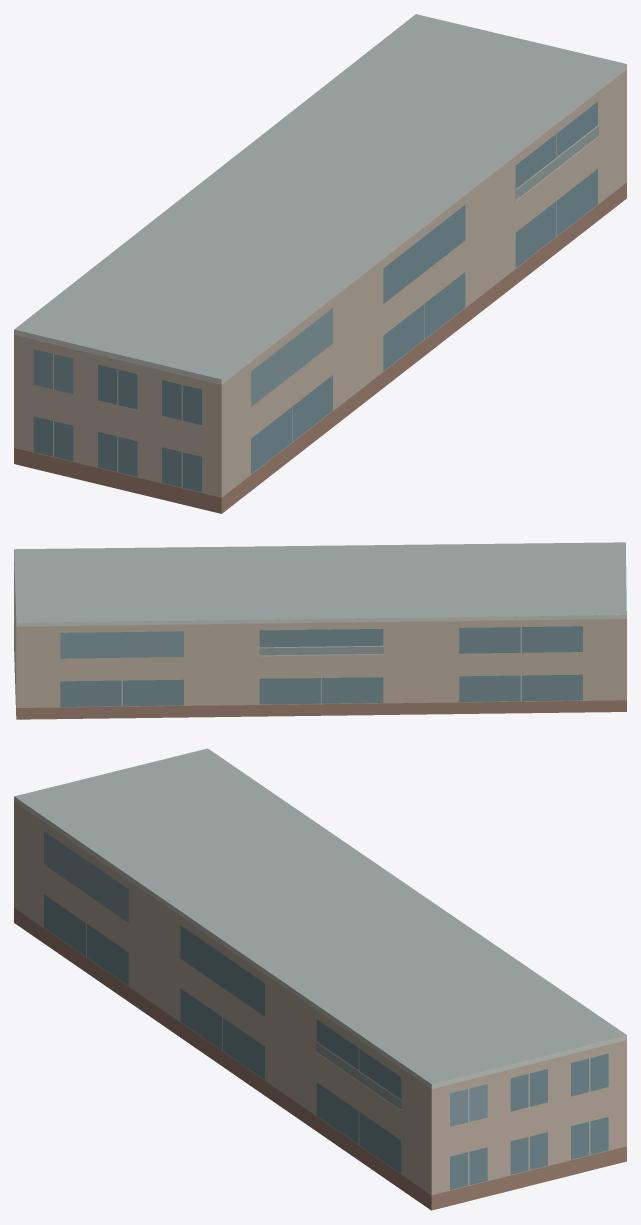
Rendered from survey-upis-32490419.glb.
3 views of the same model, one above another, from view 1: azimuth 30°, elevation 25°; view 2: azimuth 150°, elevation 25°; view 3: azimuth 270°, elevation 25° (orthographic). The views are drawn at different scales.
Visible parts, largest first — view 1: survey-upis-32490419.tmp; view 2: survey-upis-32490419.tmp; view 3: survey-upis-32490419.tmp.
Boxes of the visible parts, x1,y1,x2,y2 form: survey-upis-32490419.tmp: (14,14,626,513); survey-upis-32490419.tmp: (14,542,626,719); survey-upis-32490419.tmp: (14,748,626,1210).
Bounding box in the file's own units: 34.76 × 6.1 × 26.81.
